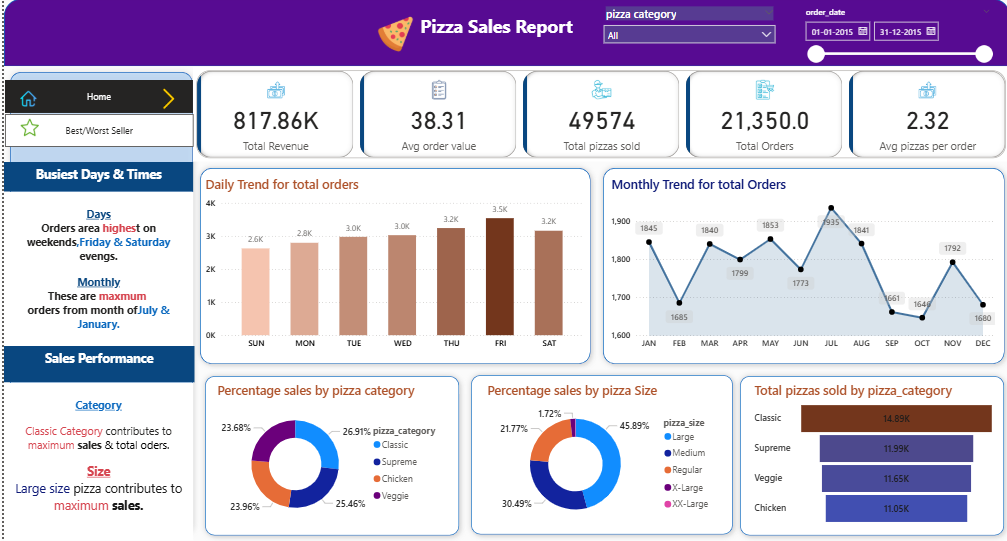

This screenshot's page, from the dashboard's own definition file:
{"tool":"powerbi","page":{"name":"Home","canvas":[1500,820],"ordinal":0},"visuals":[{"type":"shape","box":[0,100,290.3,706.8],"z":0},{"type":"cardVisual","fields":{"Data":["pizza_sales.Total Revenue","pizza_sales.Avg order value","pizza_sales.Total pizzas sold","pizza_sales.Total Orders","pizza_sales.Avg pizzas per order"]},"box":[282.1,101.7,1218.5,141],"z":1000},{"type":"shape","box":[0,0,1500,100.4],"z":2000},{"type":"textbox","box":[615,16.4,254.2,65.6],"z":3000},{"type":"image","box":[551,19.7,64,65.6],"z":4000},{"type":"shape","box":[283.7,242.7,600.2,310],"z":5000},{"type":"columnChart","title":"Daily Trend for total orders","fields":{"Category":["pizza_sales.Order Day"],"Y":["pizza_sales.Total Orders"]},"box":[295.2,264,574,267.3],"z":6000},{"type":"shape","box":[884,242.7,616.6,310],"z":7000},{"type":"areaChart","title":"Monthly Trend for total Orders","fields":{"Category":["pizza_sales.Month Day"],"Y":["pizza_sales.Total Orders"]},"box":[900.4,264,582.2,267.3],"z":8000},{"type":"shape","box":[290.3,552.7,396.9,255.8],"z":9000},{"type":"shape","box":[687.2,551,408.4,255.8],"z":10000},{"type":"shape","box":[1089,552.7,411.6,255.8],"z":11000},{"type":"donutChart","title":"Percentage sales by pizza category","fields":{"Category":["pizza_sales.pizza_category"],"Y":["pizza_sales.Total Revenue"]},"box":[313.2,570.7,351,219.8],"z":12000},{"type":"donutChart","title":"Percentage sales by pizza Size","fields":{"Y":["pizza_sales.Total Revenue"],"Category":["pizza_sales.pizza_size"]},"box":[715,570.7,352.6,219.8],"z":13000},{"type":"funnel","fields":{"Category":["pizza_sales.pizza_category"],"Y":["pizza_sales.Total pizzas sold"]},"box":[1113.6,570.7,369,218.1],"z":14000},{"type":"textbox","box":[0,242.7,282.1,44.3],"z":15000},{"type":"textbox","box":[0,287,282.1,229.6],"z":16000},{"type":"textbox","box":[0,516.6,283.7,54.1],"z":17000},{"type":"textbox","box":[0,572.4,282.1,234.5],"z":18000},{"type":"slicer","fields":{"Values":["pizza_sales.pizza_category"]},"box":[884,6.6,275.5,85.3],"z":19000},{"type":"slicer","fields":{"Values":["pizza_sales.order_date"]},"box":[1182.4,6.6,300.1,93.5],"z":20000},{"type":"pageNavigator","box":[1.6,121.4,280.4,49.2],"z":21000},{"type":"pageNavigator","box":[2,171.3,281.5,49.2],"z":22000},{"type":"image","box":[224.7,124.6,41,47.6],"z":23000},{"type":"image","box":[19.4,123.7,34.3,49.2],"z":24000},{"type":"image","box":[11.9,172.9,53.7,37.3],"z":25000}]}

Visuals, with their boxes on the page's 1500x820 design canvas (x1, y1, x2, y2). These are canvas units, not pixel positions in the 1007x541 screenshot, which may show the page scaled, cropped or inside an application window:
shape: locate(0, 100, 290, 807)
cardVisual - pizza_sales.Total Revenue x pizza_sales.Avg order value: locate(282, 102, 1501, 243)
shape: locate(0, 0, 1500, 100)
textbox: locate(615, 16, 869, 82)
image: locate(551, 20, 615, 85)
shape: locate(284, 243, 884, 553)
"Daily Trend for total orders" columnChart: locate(295, 264, 869, 531)
shape: locate(884, 243, 1501, 553)
"Monthly Trend for total Orders" areaChart: locate(900, 264, 1483, 531)
shape: locate(290, 553, 687, 808)
shape: locate(687, 551, 1096, 807)
shape: locate(1089, 553, 1501, 808)
"Percentage sales by pizza category" donutChart: locate(313, 571, 664, 790)
"Percentage sales by pizza Size" donutChart: locate(715, 571, 1068, 790)
funnel - pizza_sales.pizza_category x pizza_sales.Total pizzas sold: locate(1114, 571, 1483, 789)
textbox: locate(0, 243, 282, 287)
textbox: locate(0, 287, 282, 517)
textbox: locate(0, 517, 284, 571)
textbox: locate(0, 572, 282, 807)
slicer - pizza_sales.pizza_category: locate(884, 7, 1160, 92)
slicer - pizza_sales.order_date: locate(1182, 7, 1482, 100)
pageNavigator: locate(2, 121, 282, 171)
pageNavigator: locate(2, 171, 284, 220)
image: locate(225, 125, 266, 172)
image: locate(19, 124, 54, 173)
image: locate(12, 173, 66, 210)
